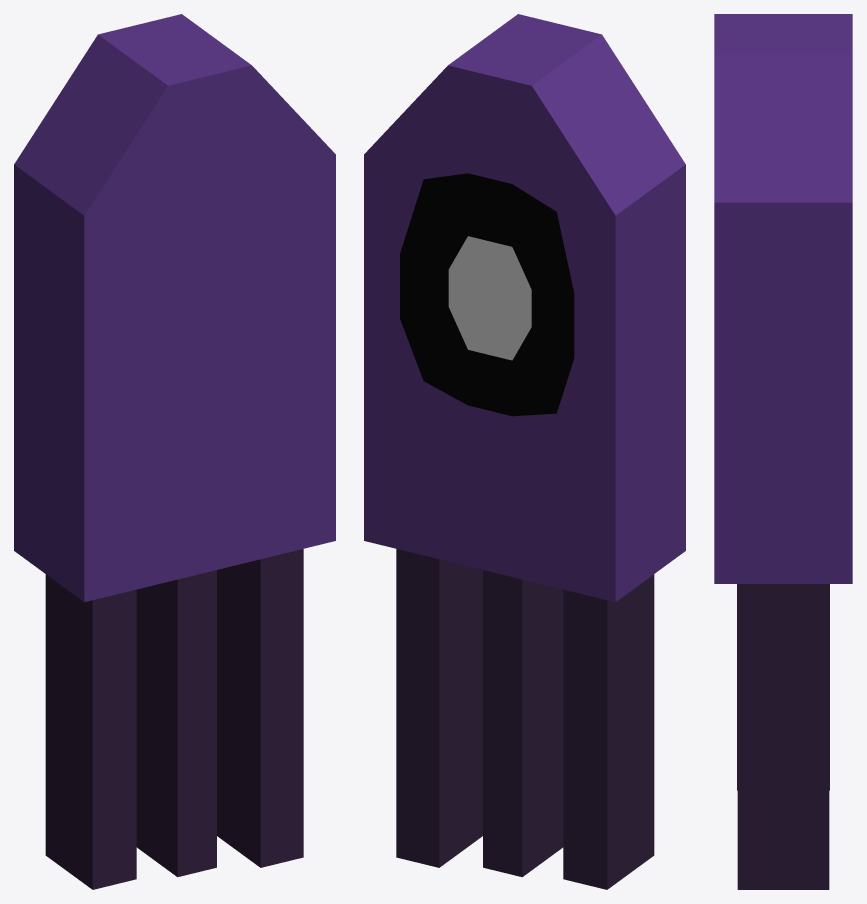
The model's file is Creature_Low.glb.
3 views of the same model, side by side, from view 1: azimuth 30°, elevation 25°; view 2: azimuth 150°, elevation 25°; view 3: azimuth 270°, elevation 25° (orthographic).
Parts seen in each view (by area): view 1: Body_Low; view 2: Body_Low; view 3: Body_Low.
Boxes of the visible parts, x1,y1,x2,y2 form: Body_Low: (14, 14, 335, 889); Body_Low: (364, 14, 685, 889); Body_Low: (714, 14, 852, 889).
Size of the model in its own units: 2.42 by 7.51 by 1.17.
